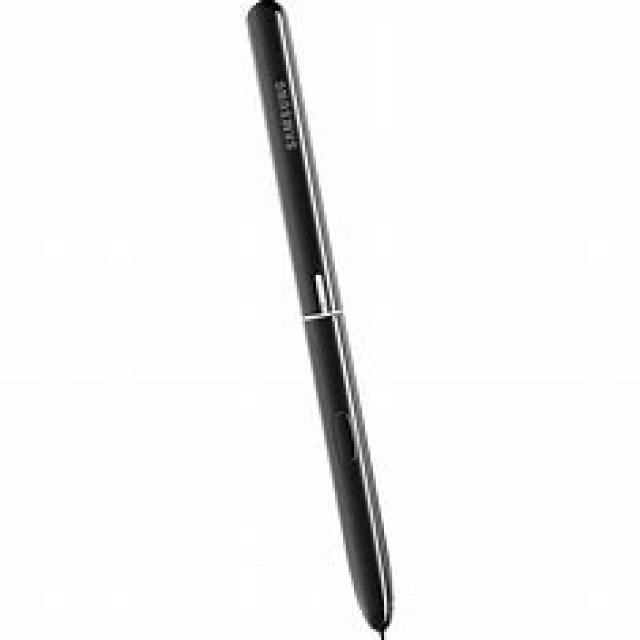pen: (240, 0, 400, 640)
